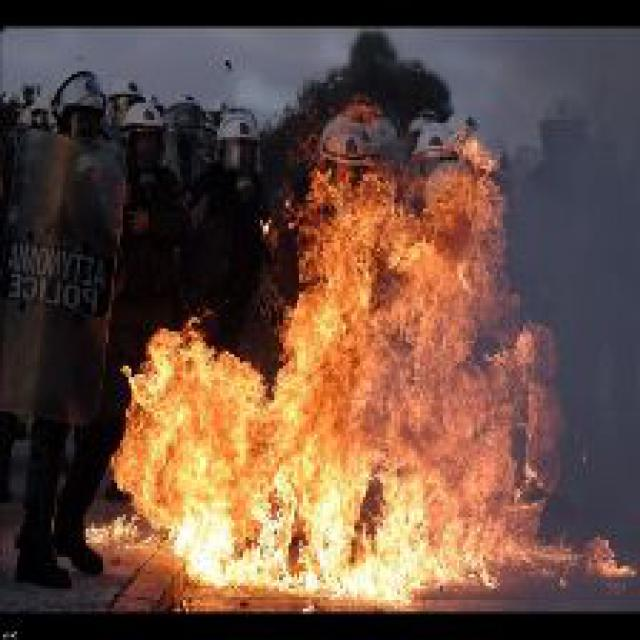fire: (111, 160, 520, 609)
